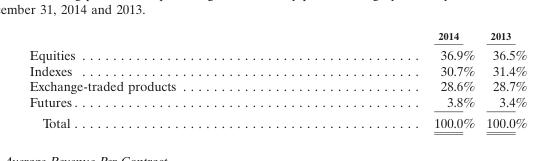table: (28, 28, 526, 129)
table column: (28, 28, 304, 129), (304, 28, 479, 129), (479, 28, 526, 129)
table column header: (28, 28, 526, 44)
table row: (28, 44, 526, 62), (28, 93, 526, 111), (28, 111, 526, 129), (28, 28, 526, 44), (28, 62, 526, 78), (28, 78, 526, 93)
